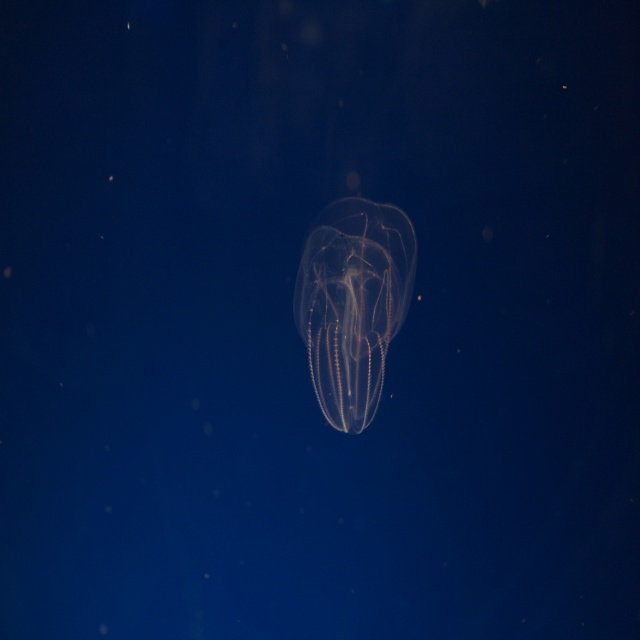Jellyfish: (297, 178, 425, 425)
